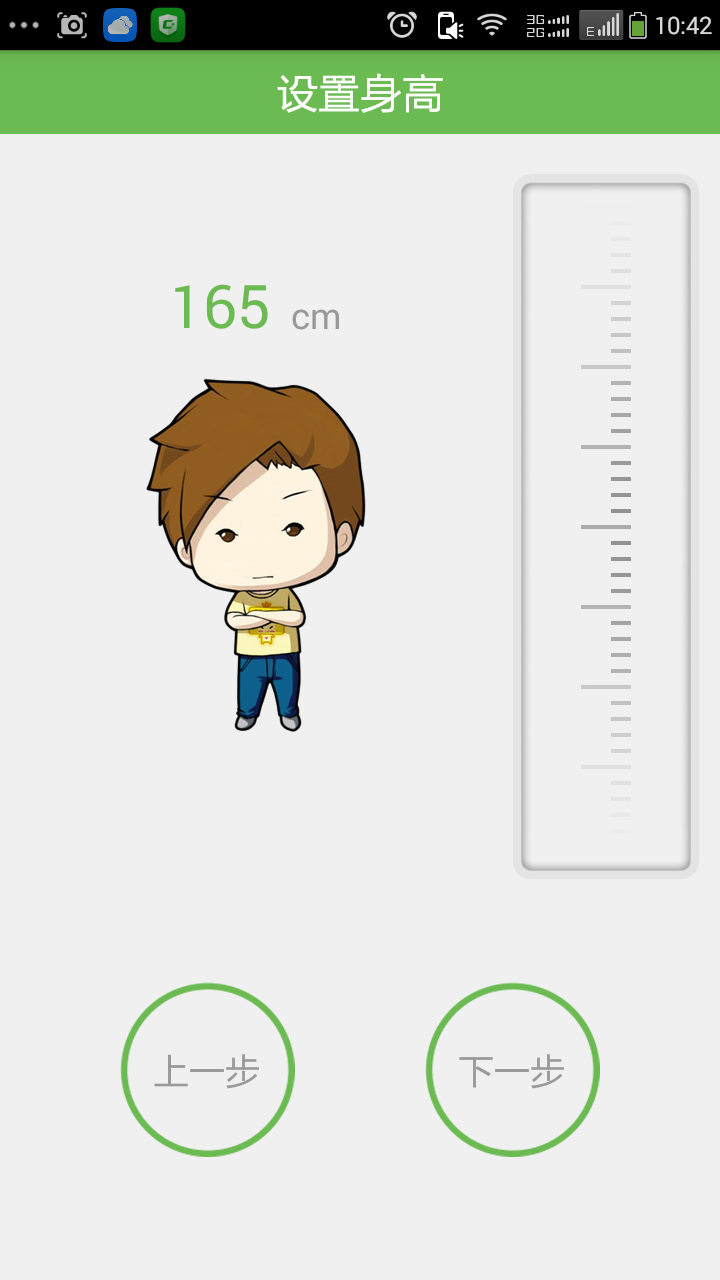imgbutton: (408, 967, 612, 1167), (114, 971, 306, 1160)
imgview: (143, 369, 381, 761)
textview: (166, 263, 362, 345)
